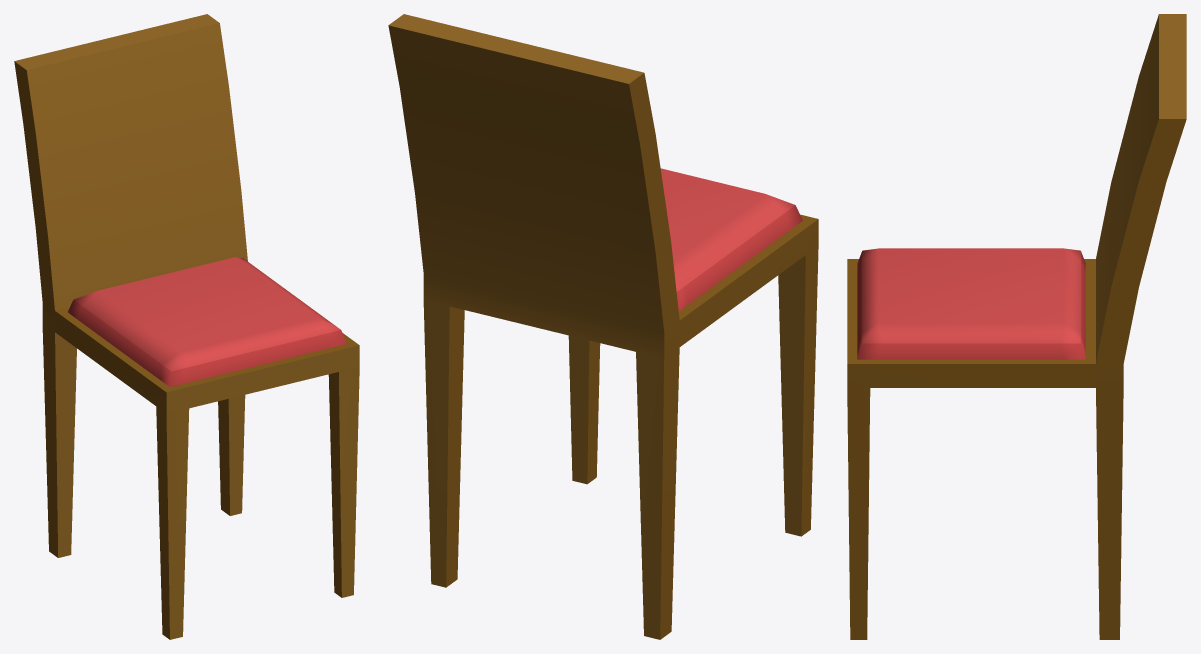
File: Chair.fbx
The picture shows the model from 3 angles, left to right: view 1: azimuth 30°, elevation 25°; view 2: azimuth 150°, elevation 25°; view 3: azimuth 270°, elevation 25°; orthographic projection. The views are drawn at different scales.
Parts seen in each view (by area): view 1: Chair; view 2: Chair; view 3: Chair.
Boxes of the visible parts, x1,y1,x2,y2 form: Chair: (14,14,359,639); Chair: (388,14,818,639); Chair: (847,14,1186,639).
Size of the model in its own units: 71.9 by 167 by 98.16.
